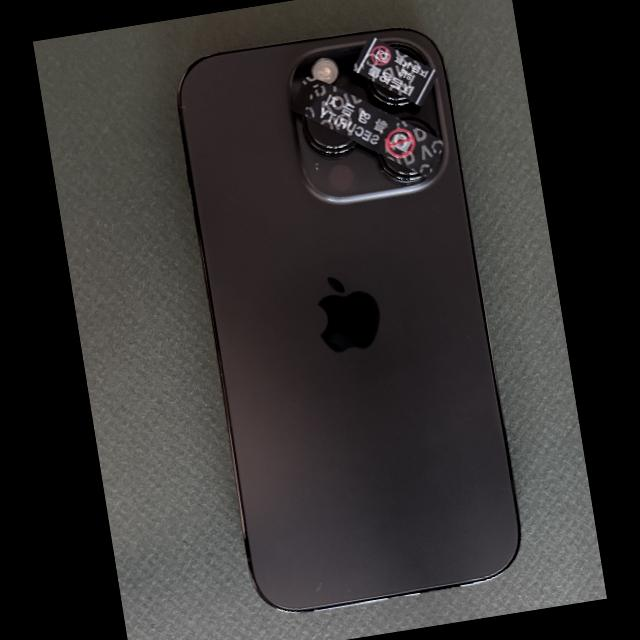lens: (301, 117, 356, 154), (366, 80, 410, 106), (378, 156, 422, 182)
phone: (176, 27, 521, 613)
sticker: (292, 76, 444, 177), (353, 37, 439, 106)
